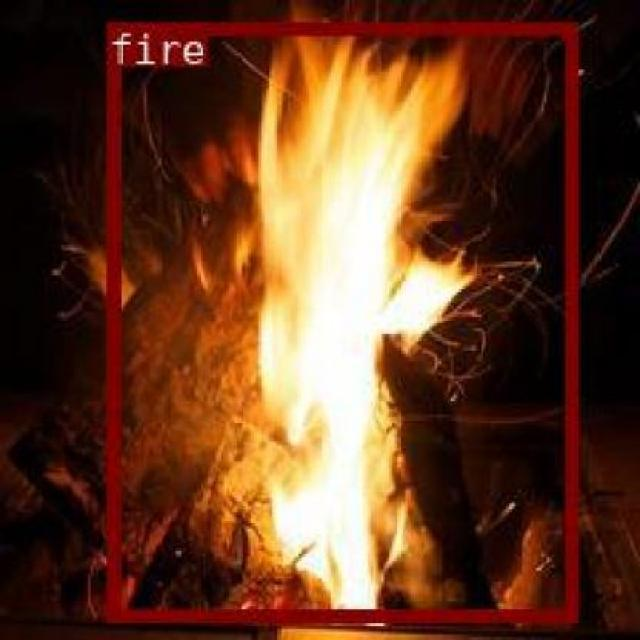Fire: (339, 321, 471, 599)
